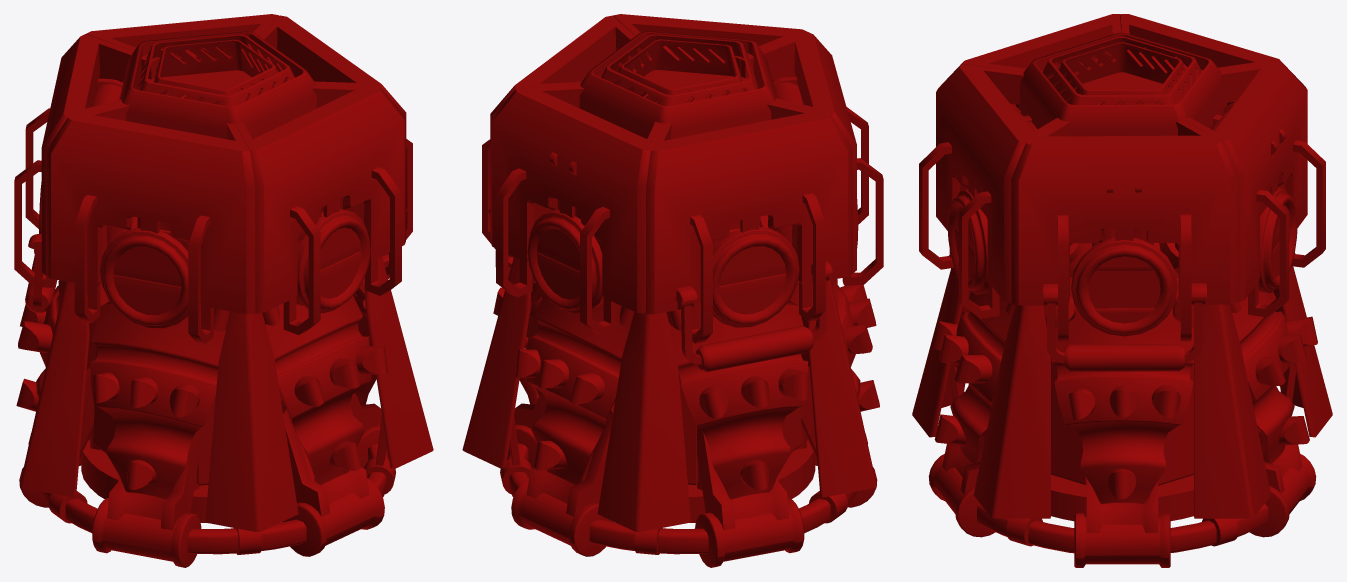
File: PortalPortableMiner_Folded_static.gltf
The picture shows the model from 3 angles, left to right: view 1: azimuth 30°, elevation 25°; view 2: azimuth 150°, elevation 25°; view 3: azimuth 270°, elevation 25°; orthographic projection.
Parts seen in each view (by area): view 1: PortableMiner_Folded_static; view 2: PortableMiner_Folded_static; view 3: PortableMiner_Folded_static.
Part boxes in pixels (<box>): PortableMiner_Folded_static: <box>14,14,433,567</box>; PortableMiner_Folded_static: <box>462,14,883,567</box>; PortableMiner_Folded_static: <box>912,14,1332,567</box>.
Size of the model in its own units: 0.7968 by 0.9035 by 0.8031.
